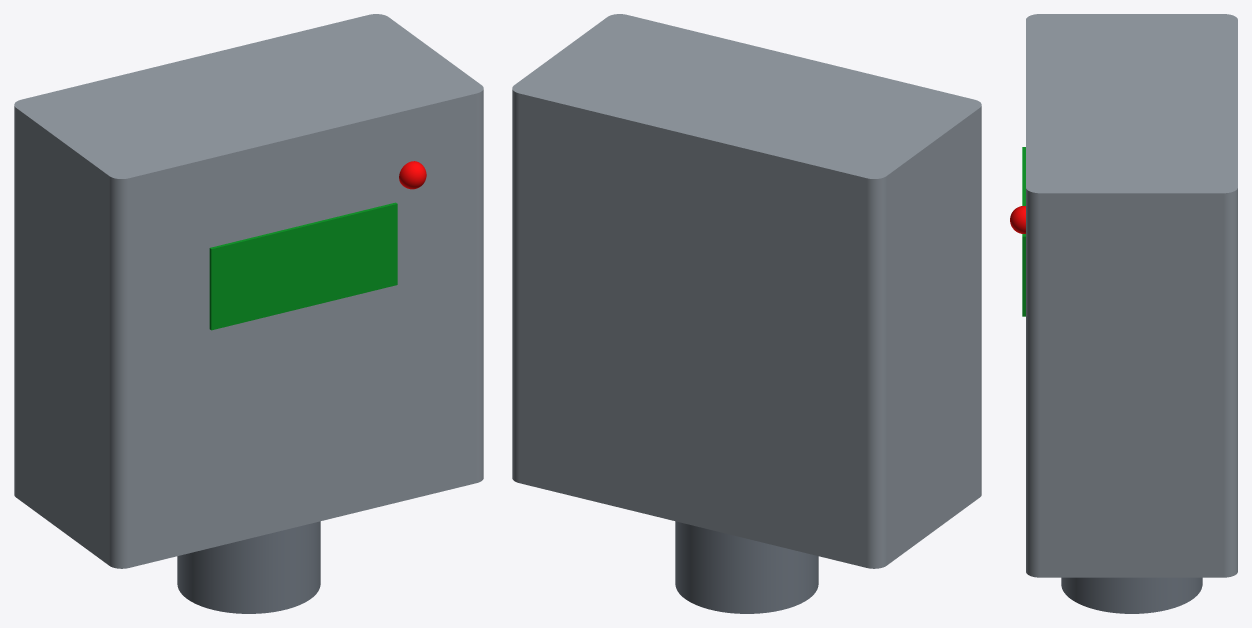
The model's file is gas_detector.glb.
The picture shows the model from 3 angles, left to right: view 1: azimuth 30°, elevation 25°; view 2: azimuth 150°, elevation 25°; view 3: azimuth 270°, elevation 25°; orthographic projection.
Parts seen in each view (by area): view 1: gas_detector; view 2: gas_detector; view 3: gas_detector.
Boxes of the visible parts, left/top/right/bottom form: gas_detector: left=14, top=14, right=483, bottom=613; gas_detector: left=512, top=14, right=981, bottom=613; gas_detector: left=1010, top=14, right=1237, bottom=613.
Size of the model in its own units: 0.12 by 0.15 by 0.0645.
